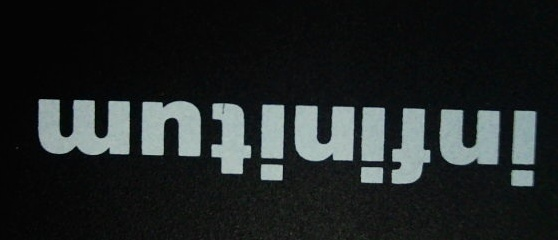BK_infinitum: (34, 96, 537, 189)
